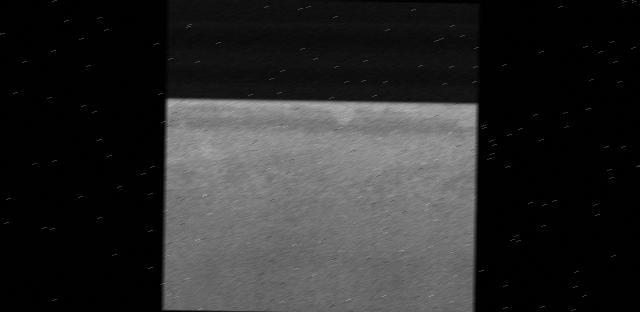silk_spot: (198, 154, 476, 237)
